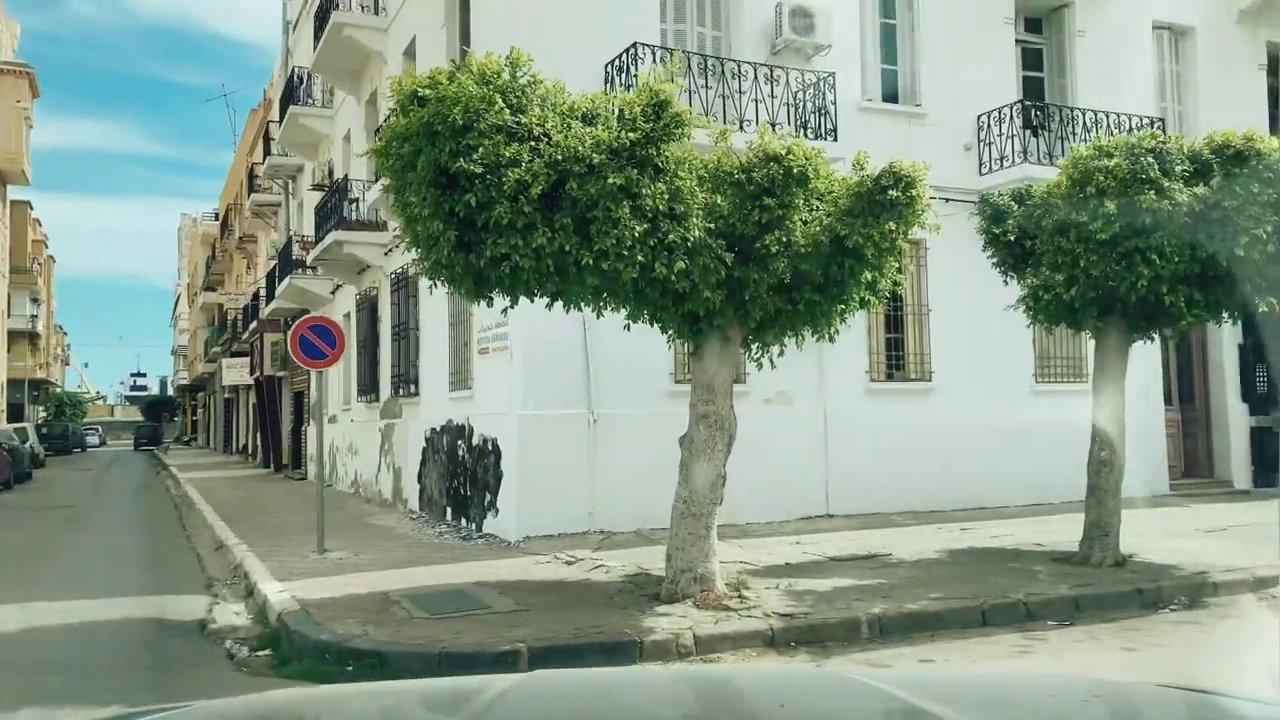no parking: (286, 311, 347, 369)
